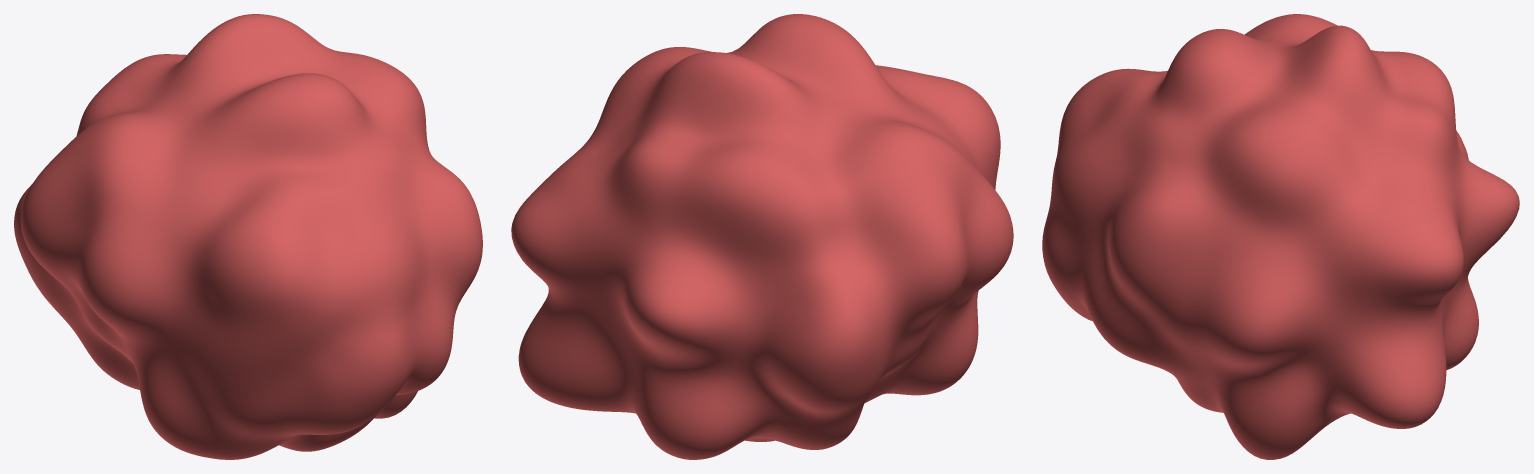
3 renders of one model, left to right at view 1: azimuth 30°, elevation 25°; view 2: azimuth 150°, elevation 25°; view 3: azimuth 270°, elevation 25°, orthographic. The views are drawn at different scales.
Visible parts, largest first — view 1: Cube; view 2: Cube; view 3: Cube.
Part boxes in pixels (x1,y1,x2,y2): Cube: (14, 14, 482, 459); Cube: (511, 14, 1013, 459); Cube: (1042, 14, 1519, 459).
Size of the model in its own units: 8.47 by 8.97 by 7.84.
